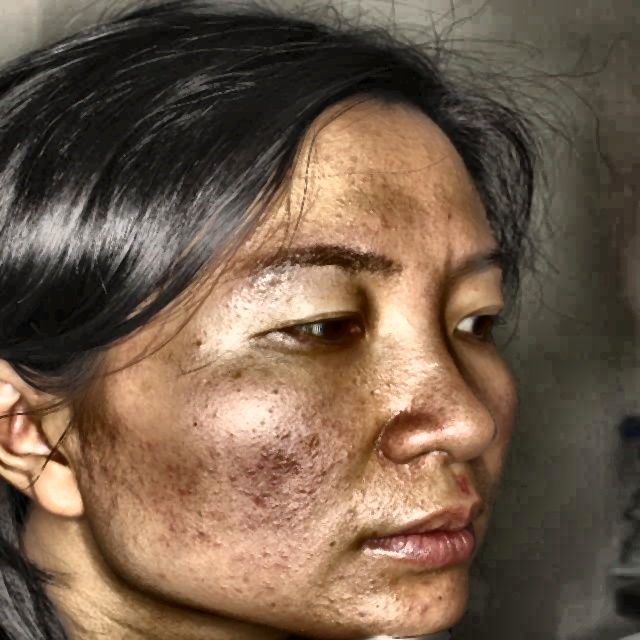comedone: (456, 476, 478, 496), (240, 229, 254, 251)
